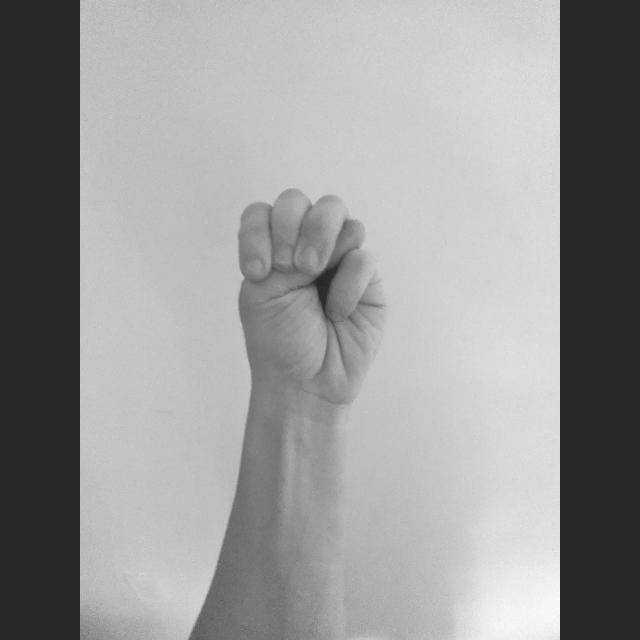M: (226, 182, 394, 410)
